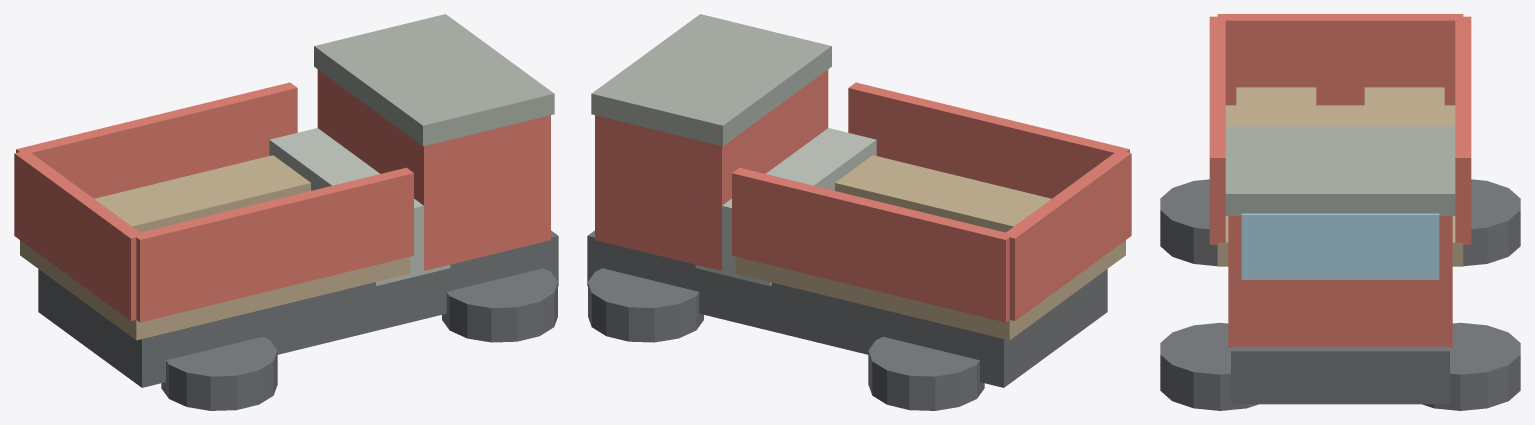
Rendered from truck_red.glb.
The picture shows the model from 3 angles, left to right: view 1: azimuth 30°, elevation 25°; view 2: azimuth 150°, elevation 25°; view 3: azimuth 270°, elevation 25°; orthographic projection. The views are drawn at different scales.
Visible parts, largest first — view 1: geometry_10, geometry_5, geometry_0, geometry_7, geometry_11, geometry_12, geometry_14, geometry_9, geometry_3, geometry_1, geometry_8; view 2: geometry_11, geometry_5, geometry_0, geometry_7, geometry_10, geometry_12, geometry_13, geometry_9, geometry_4, geometry_2, geometry_8; view 3: geometry_7, geometry_12, geometry_5, geometry_6, geometry_0, geometry_1, geometry_2, geometry_3, geometry_4, geometry_11, geometry_10, geometry_13 (+2 smaller).
Part boxes in pixels (x1=…): geometry_10: x1=133, y1=167, x2=413, y2=322; geometry_5: x1=317, y1=69, x2=550, y2=270; geometry_0: x1=38, y1=230, x2=558, y2=387; geometry_7: x1=314, y1=14, x2=554, y2=146; geometry_11: x1=16, y1=82, x2=297, y2=198; geometry_12: x1=14, y1=150, x2=143, y2=320; geometry_14: x1=94, y1=155, x2=310, y2=232; geometry_9: x1=20, y1=240, x2=410, y2=340; geometry_3: x1=161, y1=336, x2=277, y2=410; geometry_1: x1=442, y1=268, x2=557, y2=342; geometry_8: x1=269, y1=128, x2=450, y2=286; geometry_11: x1=732, y1=167, x2=1012, y2=322; geometry_5: x1=595, y1=69, x2=828, y2=270; geometry_0: x1=587, y1=230, x2=1107, y2=387; geometry_7: x1=591, y1=14, x2=831, y2=146; geometry_10: x1=848, y1=82, x2=1129, y2=198; geometry_12: x1=1002, y1=150, x2=1131, y2=320; geometry_13: x1=835, y1=155, x2=1051, y2=232; geometry_9: x1=735, y1=240, x2=1125, y2=340; geometry_4: x1=868, y1=336, x2=984, y2=410; geometry_2: x1=588, y1=268, x2=703, y2=342; geometry_8: x1=695, y1=128, x2=876, y2=286; geometry_7: x1=1225, y1=126, x2=1455, y2=215; geometry_12: x1=1217, y1=14, x2=1463, y2=105; geometry_5: x1=1228, y1=216, x2=1452, y2=347; geometry_6: x1=1241, y1=213, x2=1439, y2=279; geometry_0: x1=1231, y1=346, x2=1449, y2=404; geometry_1: x1=1160, y1=322, x2=1258, y2=410; geometry_2: x1=1422, y1=322, x2=1520, y2=410; geometry_3: x1=1160, y1=179, x2=1217, y2=266; geometry_4: x1=1463, y1=179, x2=1520, y2=266; geometry_11: x1=1455, y1=16, x2=1471, y2=244; geometry_10: x1=1209, y1=16, x2=1225, y2=244; geometry_13: x1=1236, y1=87, x2=1316, y2=126.
Size of the model in its own units: 1.98 by 0.91 by 1.35.
